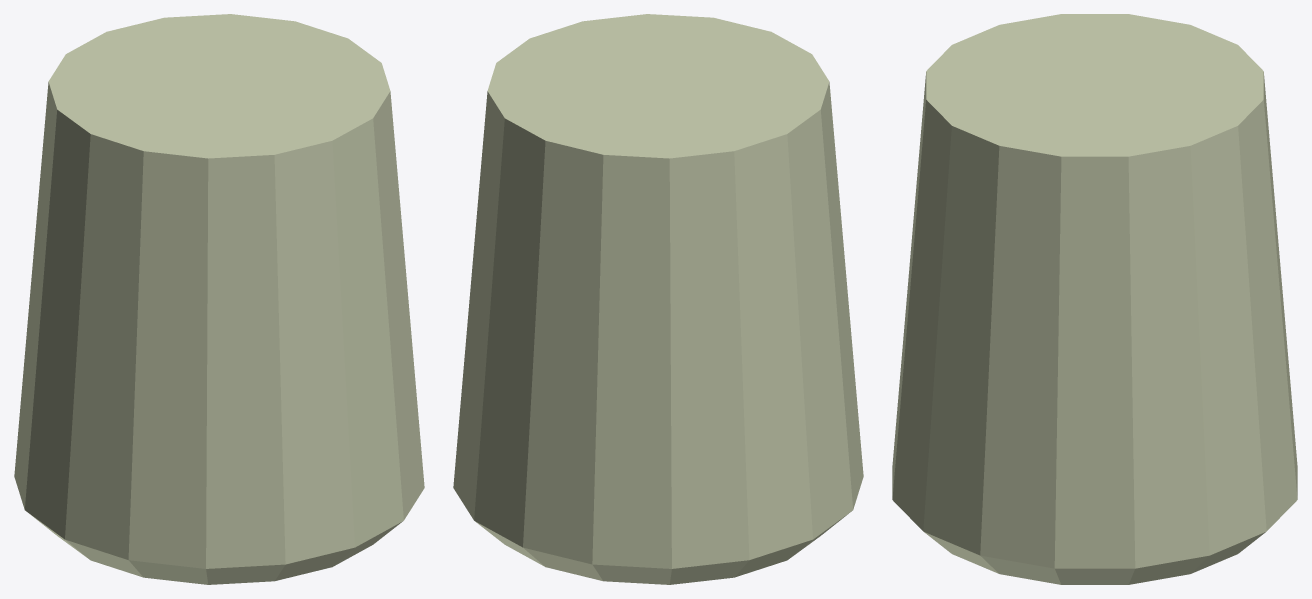
File: corvus_lv_engine_s1_1_collider.obj
3 views of the same model, side by side, from view 1: azimuth 30°, elevation 25°; view 2: azimuth 150°, elevation 25°; view 3: azimuth 270°, elevation 25° (orthographic).
Visible parts, largest first — view 1: corvus_lv_engine_s1_1_collider; view 2: corvus_lv_engine_s1_1_collider; view 3: corvus_lv_engine_s1_1_collider.
Part boxes in pixels (left/top/right/bottom): corvus_lv_engine_s1_1_collider: left=14, top=14, right=424, bottom=584; corvus_lv_engine_s1_1_collider: left=453, top=14, right=863, bottom=584; corvus_lv_engine_s1_1_collider: left=892, top=14, right=1297, bottom=584.
Size of the model in its own units: 1.5 by 1.75 by 1.5.
